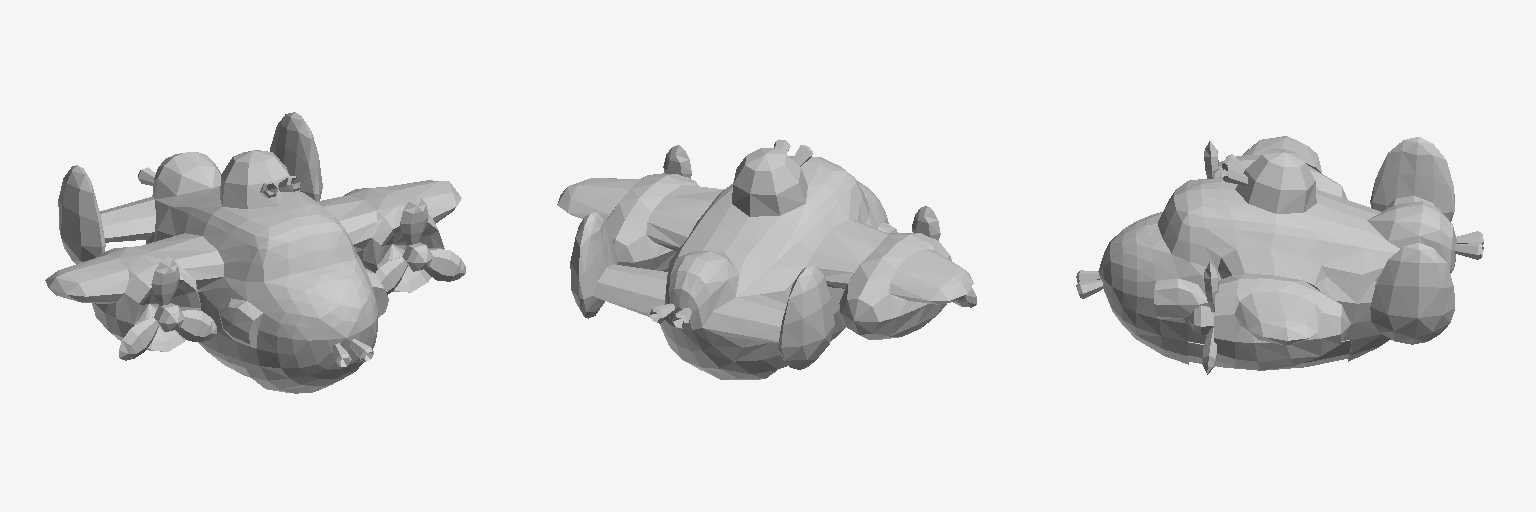
File: Air Strike.obj
3 views of the same model, side by side, from view 1: azimuth 30°, elevation 25°; view 2: azimuth 150°, elevation 25°; view 3: azimuth 270°, elevation 25° (orthographic).
Visible parts, largest first — view 1: Inst3D_RefRep.249; view 2: Inst3D_RefRep.249; view 3: Inst3D_RefRep.249.
Boxes of the visible parts, x1,y1,x2,y2 form: Inst3D_RefRep.249: [45, 112, 465, 393]; Inst3D_RefRep.249: [557, 139, 976, 379]; Inst3D_RefRep.249: [1076, 136, 1483, 374].
Bounding box in the file's own units: 5 × 2.44 × 4.34.